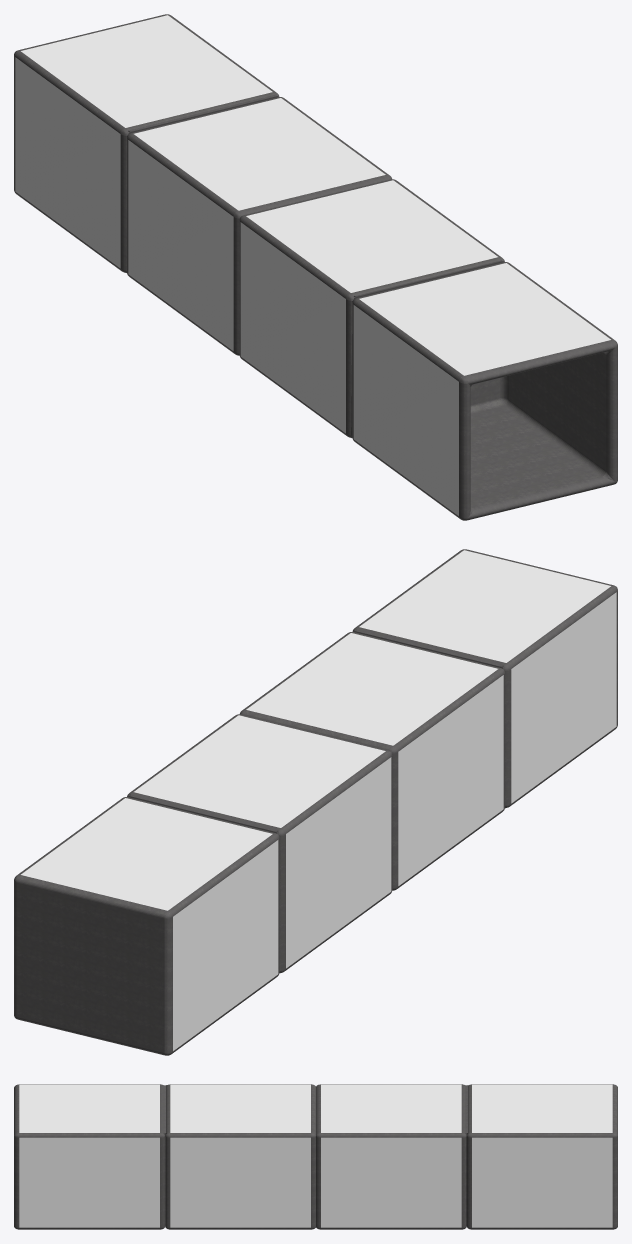
3 views of the same model, one above another, from view 1: azimuth 30°, elevation 25°; view 2: azimuth 150°, elevation 25°; view 3: azimuth 270°, elevation 25° (orthographic). The views are drawn at different scales.
Visible parts, largest first — view 1: haur.001; view 2: haur.001; view 3: haur.001.
Boxes of the visible parts, left/top/right/bottom form: haur.001: left=14, top=14, right=617, bottom=520; haur.001: left=14, top=549, right=617, bottom=1055; haur.001: left=14, top=1084, right=617, bottom=1229.
Size of the model in its own units: 6.95 by 6.17 by 34.47.
3 materials, 2 textured.
